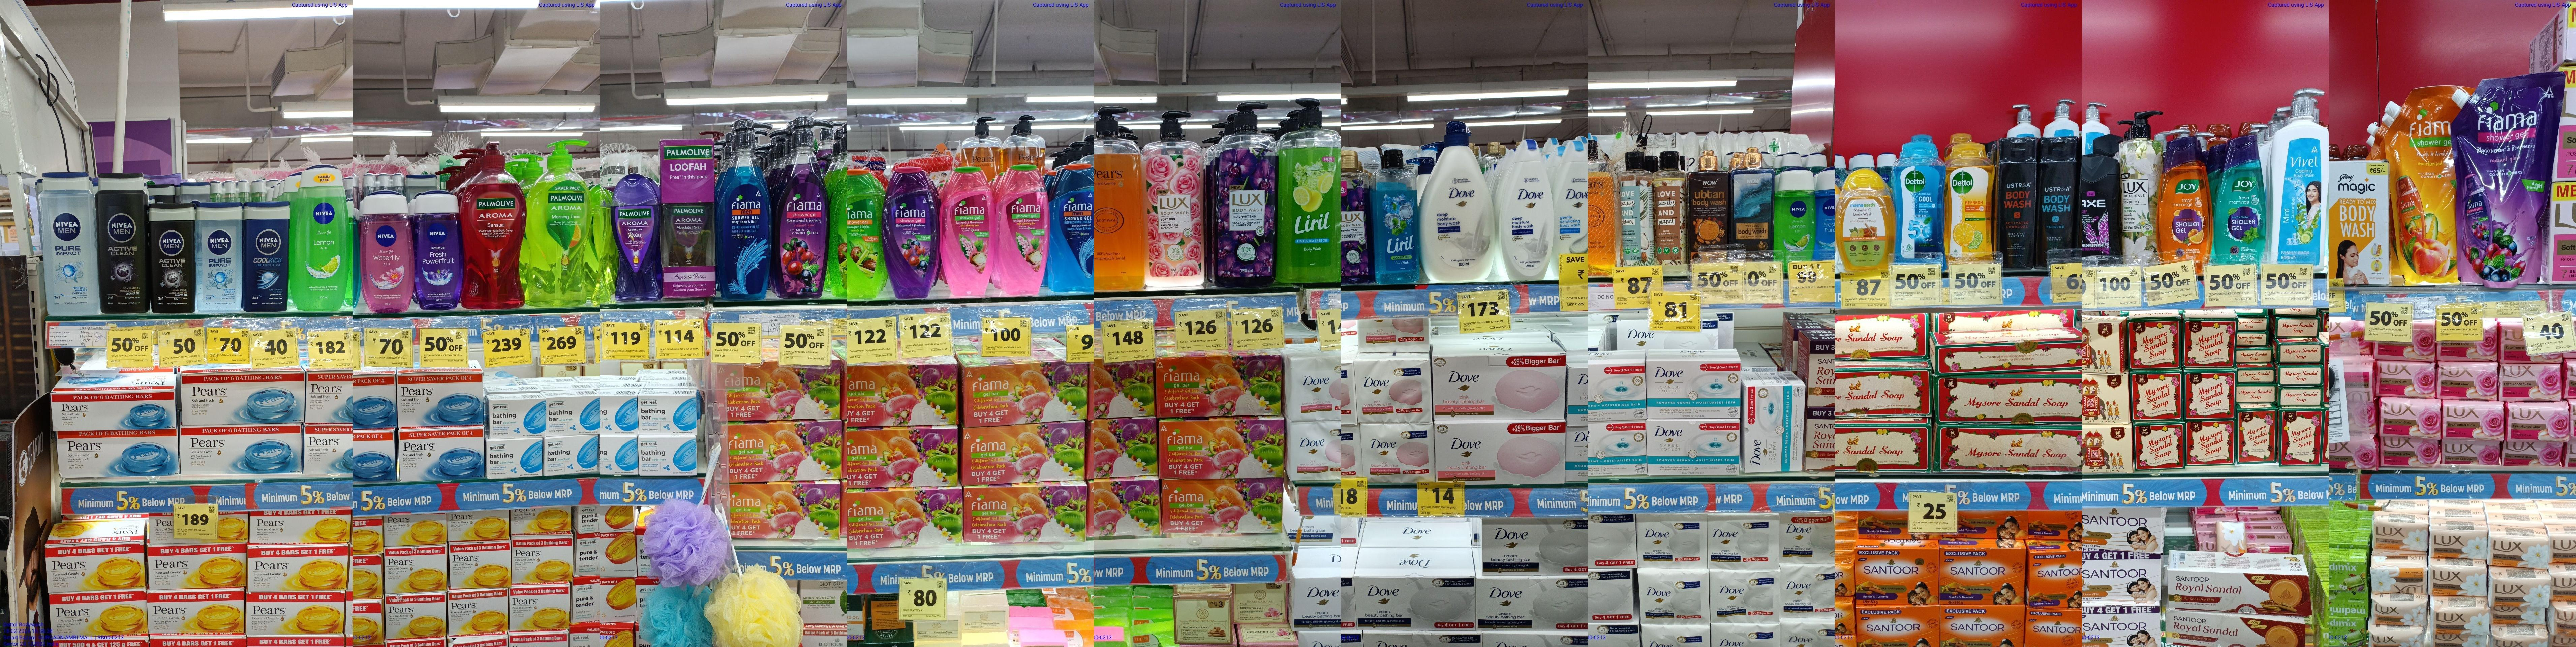Dettol_Bodywash_Cool: (1893, 141, 1942, 263)
Dettol_Bodywash_Refresh: (1947, 141, 1993, 261)
Dove_Deep_Moisture_Body_Wash_250ML: (1502, 138, 1552, 282)
Fiama_Shower_Gel_Patchouli_and_Macadamia_250ML: (994, 166, 1048, 294), (941, 166, 994, 297)
Joy_Shower_Gel_Mandarin_and_Lemongrass_250ML: (2159, 135, 2211, 263)
Joy_Shower_Gel_Mint_and_Eucalyptus_250ML: (2215, 135, 2267, 263)
Liril_Cooling_Mint_Body_Wash_250ML: (1372, 149, 1419, 284)
Nivea_Shower_Gel_Fresh_Powerfruit_250ML: (416, 190, 462, 310)
Nivea_Shower_Gel_Lemon_and_Oil_250ML: (296, 164, 347, 312), (1774, 169, 1815, 261)
Nivea_Shower_Gel_Waterlily_and_Oil_250ML: (360, 189, 416, 315)
Palmolive_Aroma_Relax_250ML: (611, 174, 660, 302)
